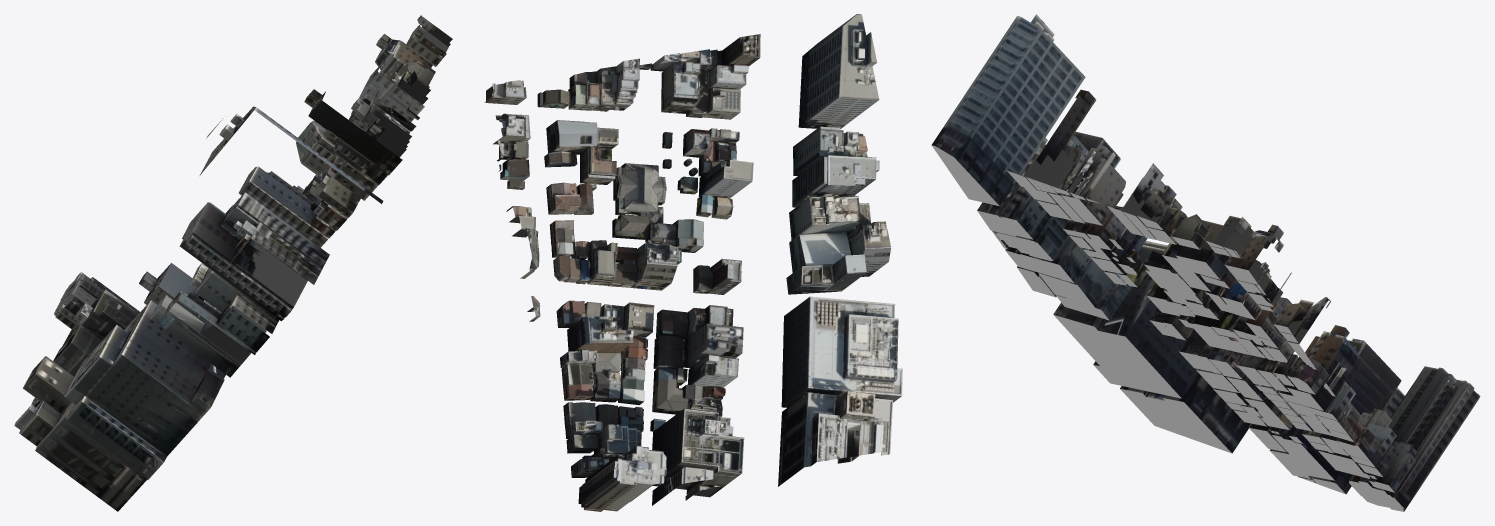
File: 39532_bldg_Building.glb
3 views of the same model, side by side, from view 1: azimuth 30°, elevation 25°; view 2: azimuth 150°, elevation 25°; view 3: azimuth 270°, elevation 25° (orthographic). The views are drawn at different scales.
Bounding box in the file's own units: 160 × 152 × 170.
4 materials, 3 textured.
